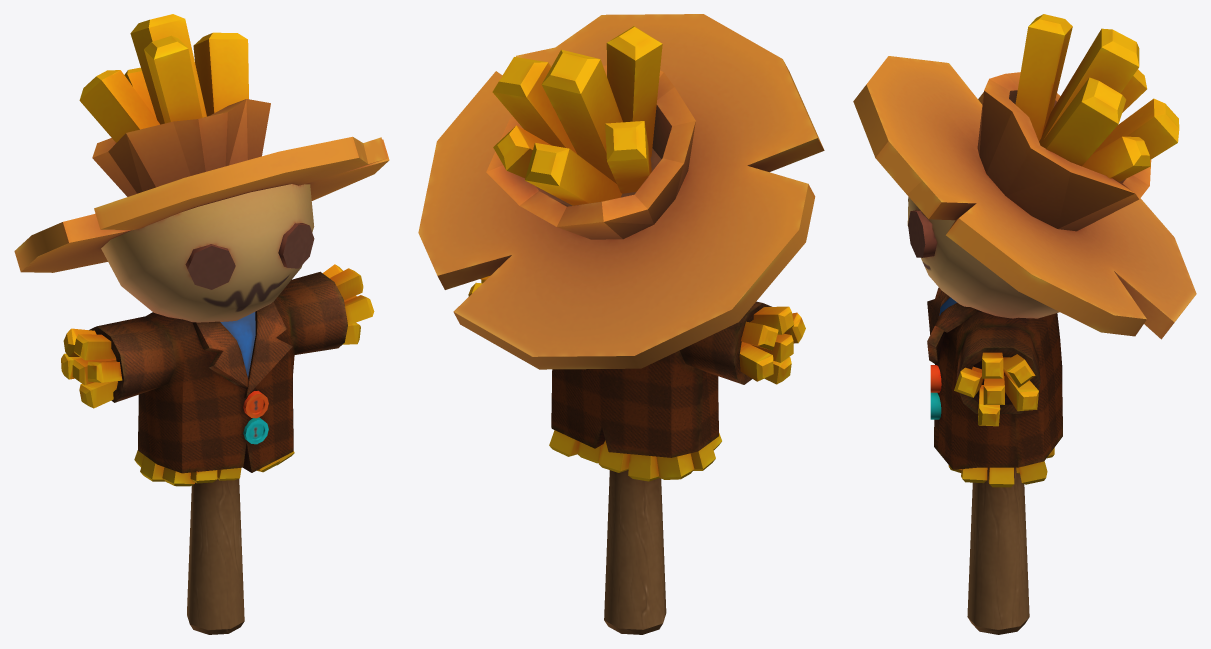
The model's file is Props_Scarecrow_01.fbx.
The picture shows the model from 3 angles, left to right: view 1: azimuth 30°, elevation 25°; view 2: azimuth 150°, elevation 25°; view 3: azimuth 270°, elevation 25°; orthographic projection. The views are drawn at different scales.
Visible parts, largest first — view 1: Props_Scarecrow_01; view 2: Props_Scarecrow_01; view 3: Props_Scarecrow_01.
Part boxes in pixels (x1,y1,x2,y2): Props_Scarecrow_01: [14, 14, 389, 634]; Props_Scarecrow_01: [418, 14, 824, 634]; Props_Scarecrow_01: [853, 14, 1196, 634].
Size of the model in its own units: 171 by 279 by 146.
